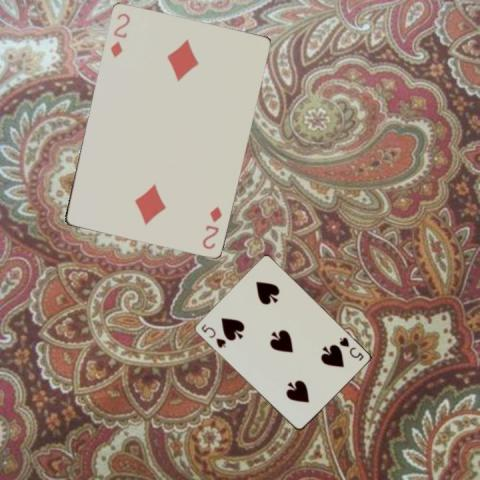2d: (107, 9, 131, 59), (199, 202, 223, 250)
5s: (336, 334, 365, 363), (198, 322, 227, 350)
